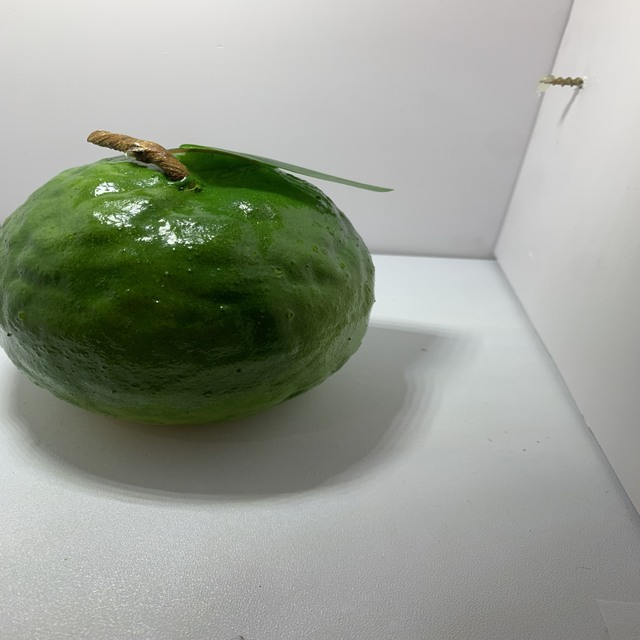Cam xanh: (0, 133, 393, 430)
